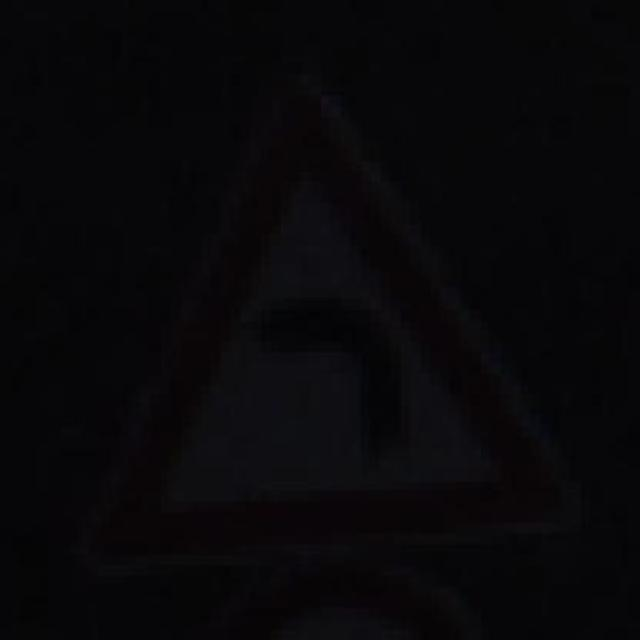Dangerous Left Curve Ahead: (89, 97, 560, 566)
